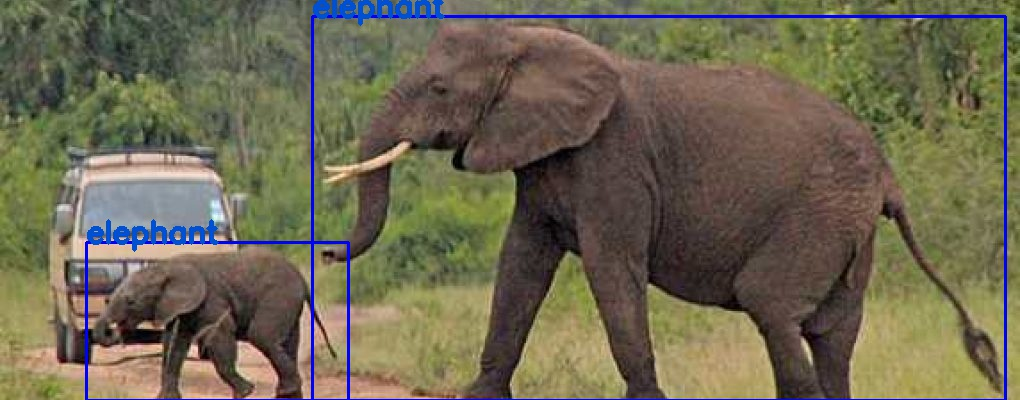elephant: (311, 16, 1004, 400), (85, 242, 348, 400)
